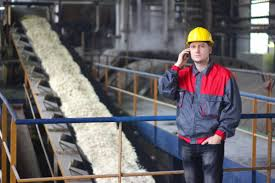Person_wearing_helmet: (184, 24, 212, 51)
